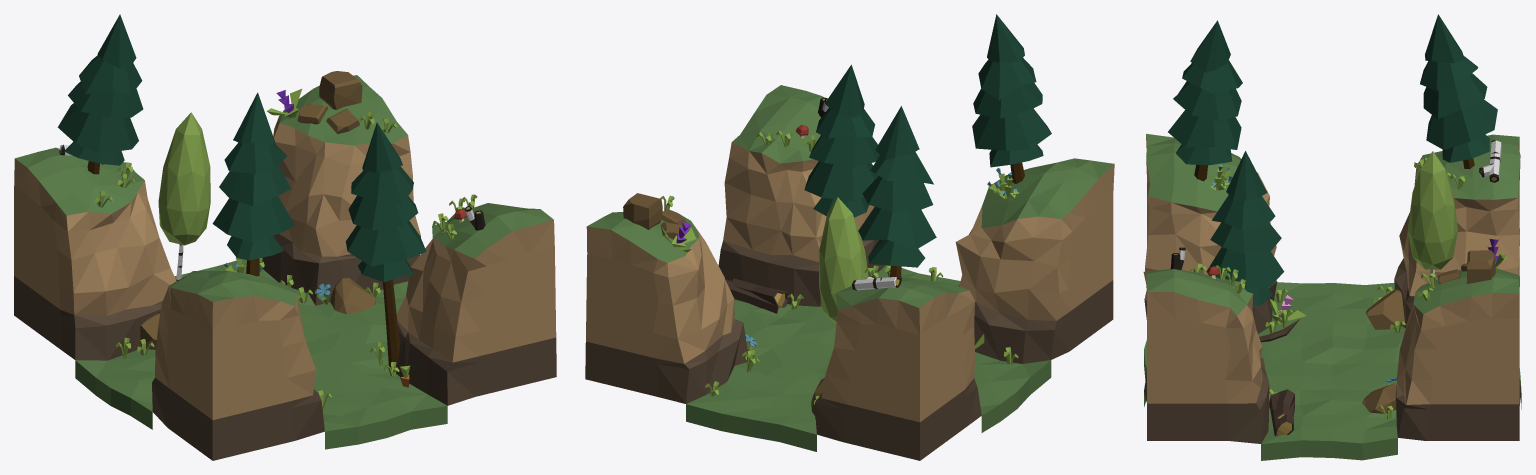
File: XCorridor - Mesh.fbx
3 views of the same model, side by side, from view 1: azimuth 30°, elevation 25°; view 2: azimuth 150°, elevation 25°; view 3: azimuth 270°, elevation 25° (orthographic). The views are drawn at different scales.
Visible parts, largest first — view 1: XCorridor - Mesh; view 2: XCorridor - Mesh; view 3: XCorridor - Mesh.
Part boxes in pixels (left/top/right/bottom): XCorridor - Mesh: left=14, top=14, right=556, bottom=460; XCorridor - Mesh: left=585, top=14, right=1114, bottom=460; XCorridor - Mesh: left=1143, top=14, right=1521, bottom=460.
Size of the model in its own units: 2028 by 1901 by 2029.
